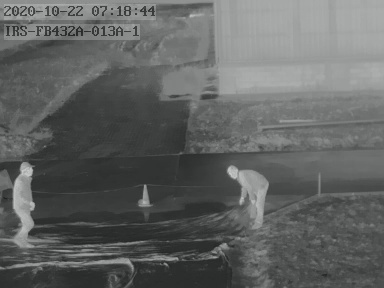person: (226, 164, 268, 227), (14, 162, 34, 246)
